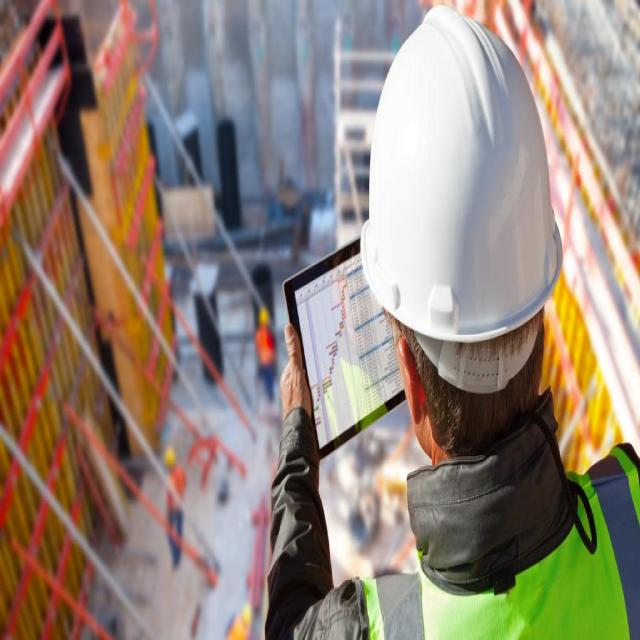Reflective-Jacket: (354, 432, 640, 640)
Safety-Helmet: (356, 11, 570, 348)
